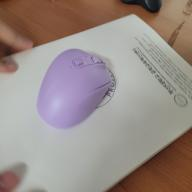mouse: (36, 48, 112, 128)
